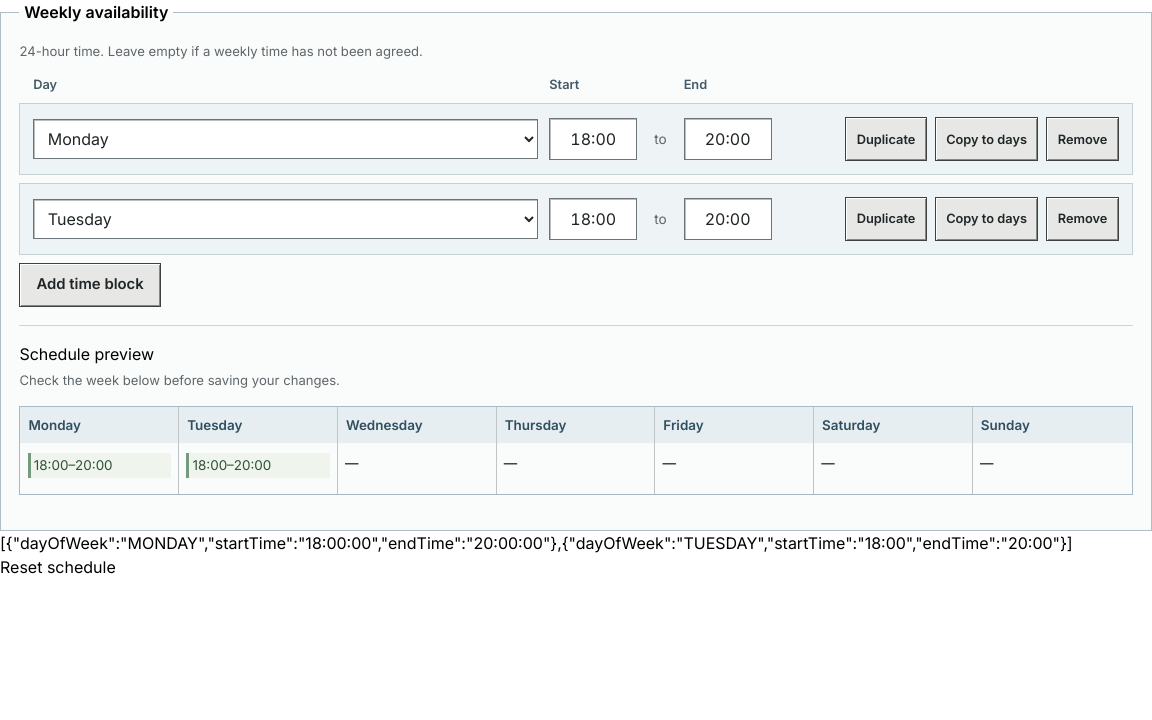
Test: weekly editor conveniences › copies to selected days, preserving an identical existing block once
This screenshot has width=1152, height=720.
Click the button with aria-label "Copy time block 1 to other days": click(987, 139) [935,117,1038,161]
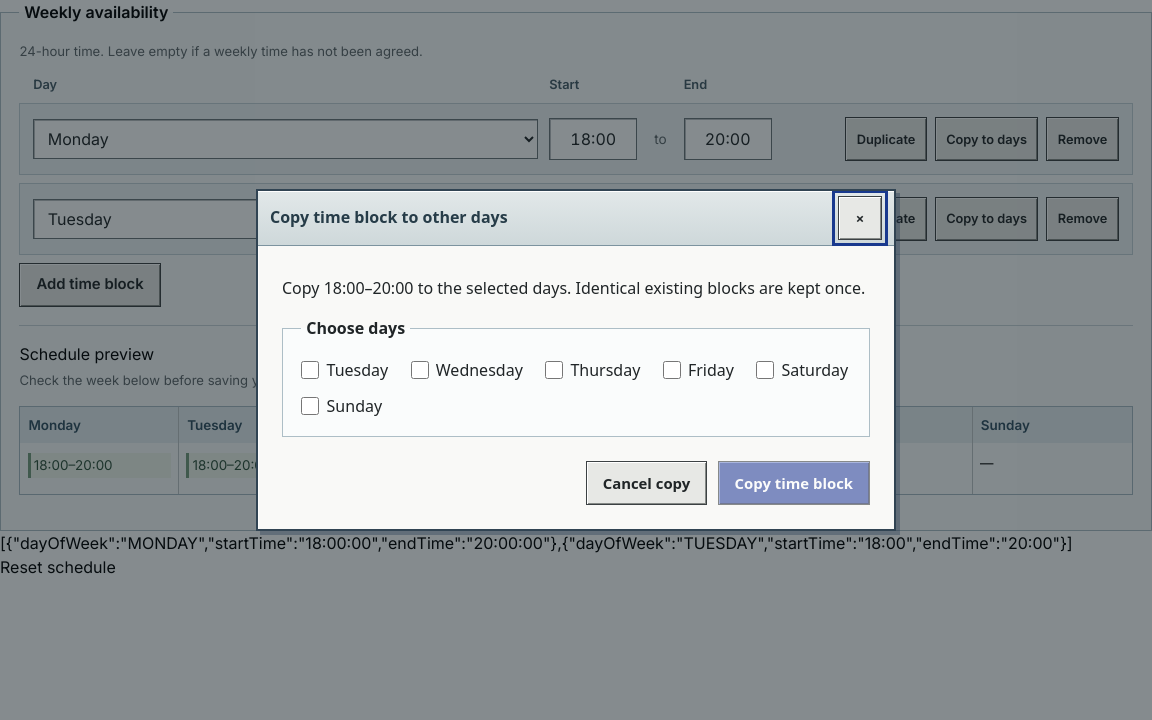
Expected: the button "Copy time block" is disabled, [718,461,870,505]
Click the checkbox labelled "Tuesday": click(310, 370) [301,361,319,379]
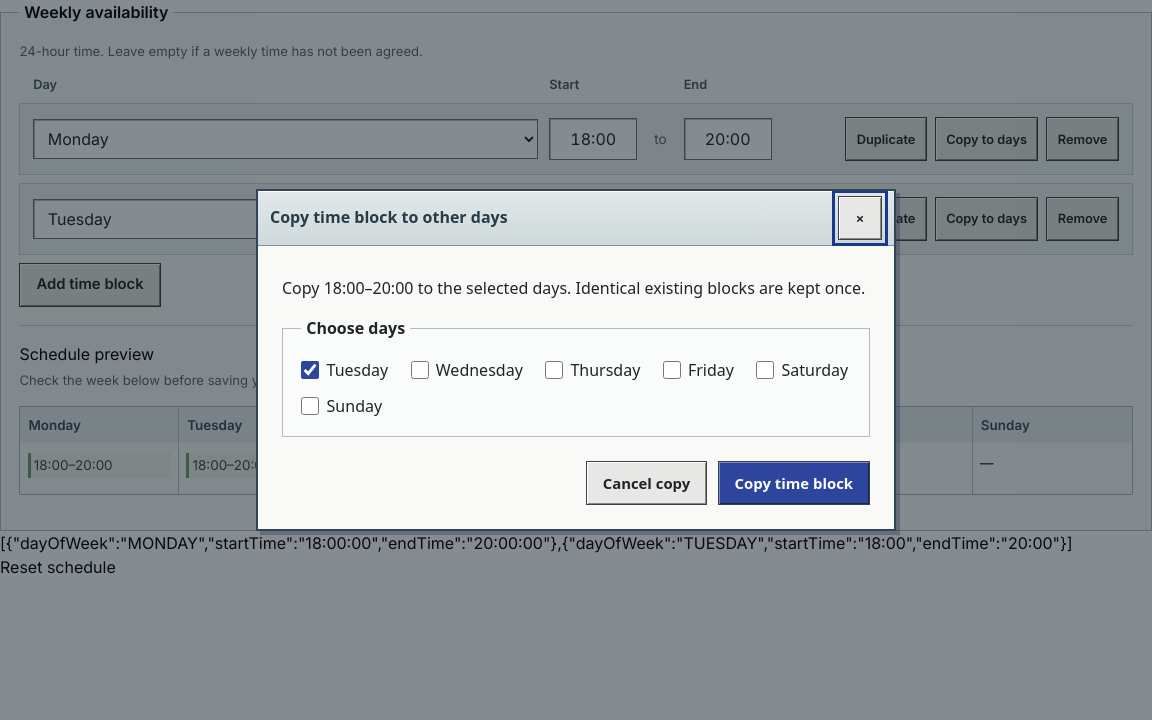
Click the checkbox labelled "Friday": click(672, 370) [663,361,681,379]
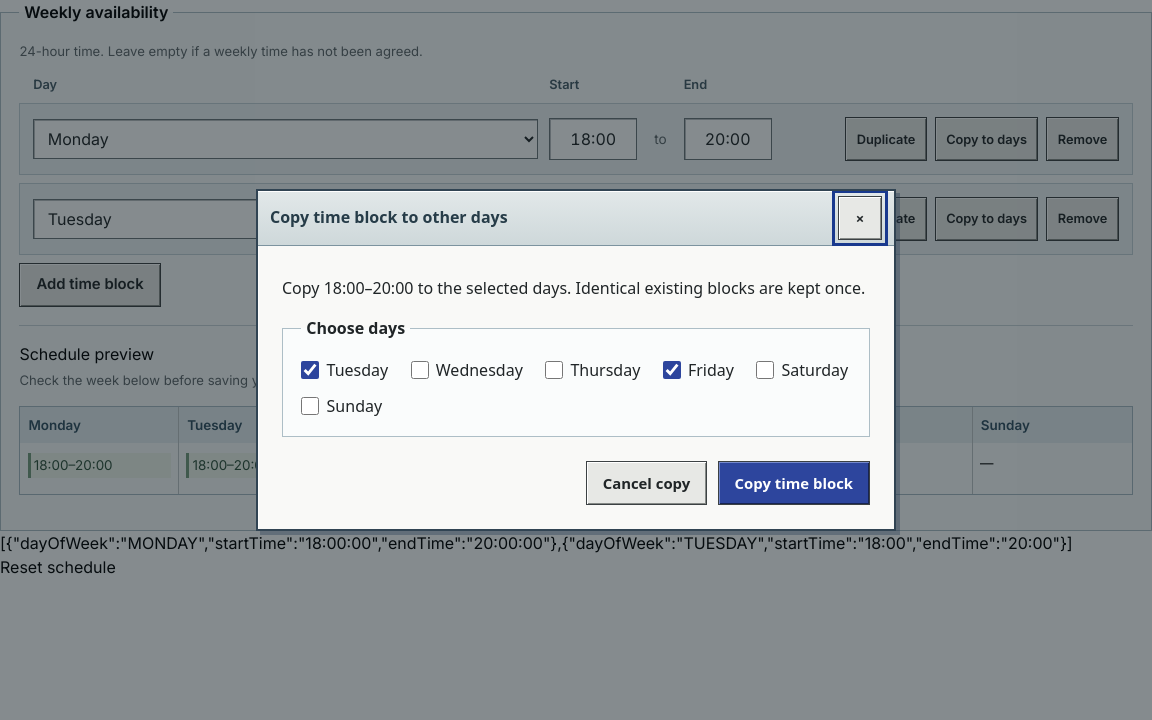
Click the button "Copy time block": click(794, 483) [718,461,870,505]
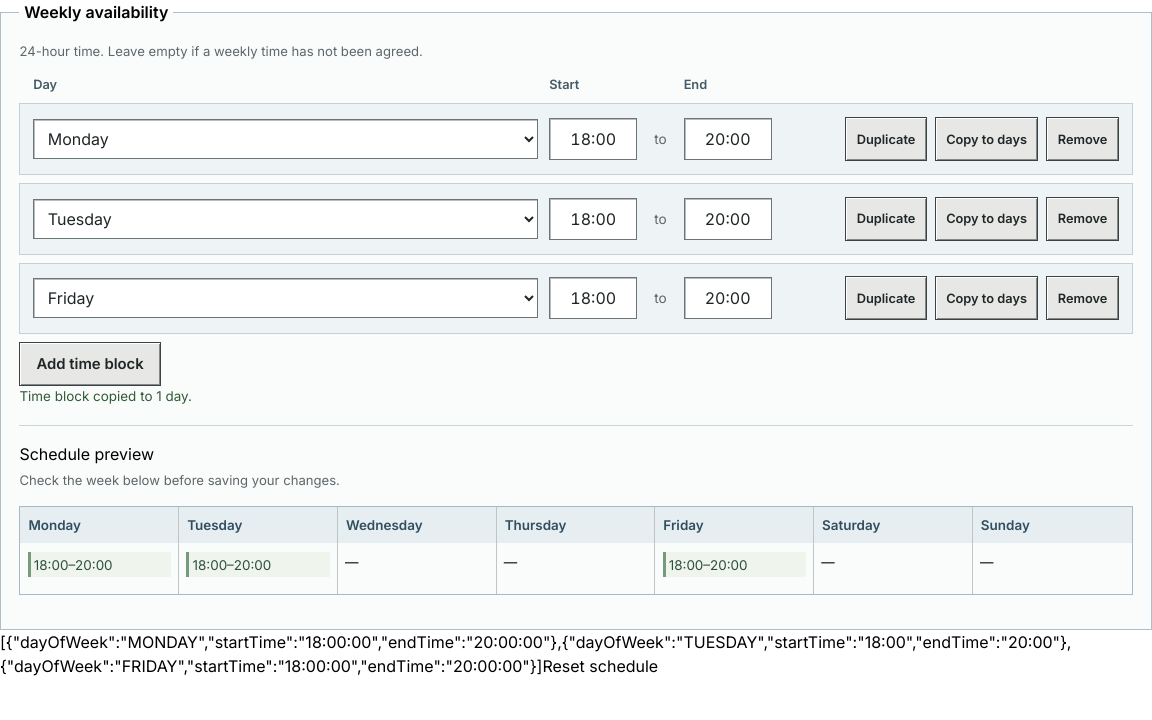
Expected: the text "Time block copied to 1 day." is shown, [19,388,192,404]
Expected: the dialog is gone
